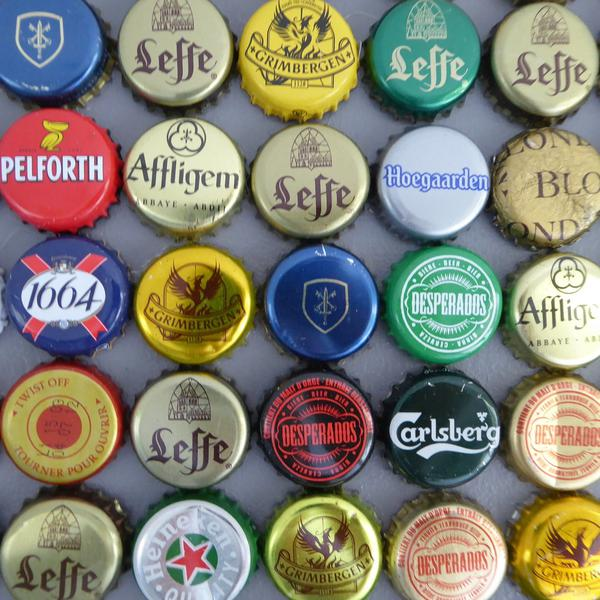heineken: (130, 492, 254, 600)
leffe: (129, 368, 253, 491), (250, 121, 370, 242), (486, 2, 599, 124), (1, 492, 123, 600), (119, 1, 232, 112)
